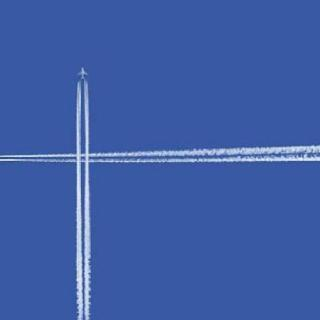Contrails: (0, 48, 320, 320)
